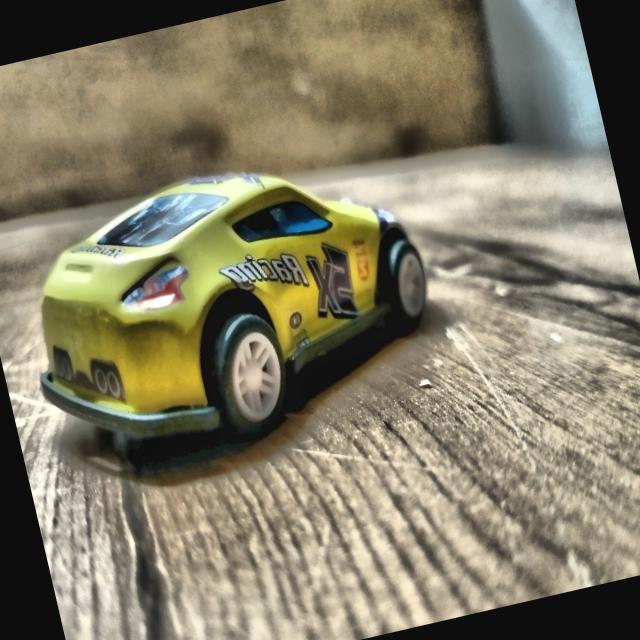Car: (0, 123, 462, 487)
